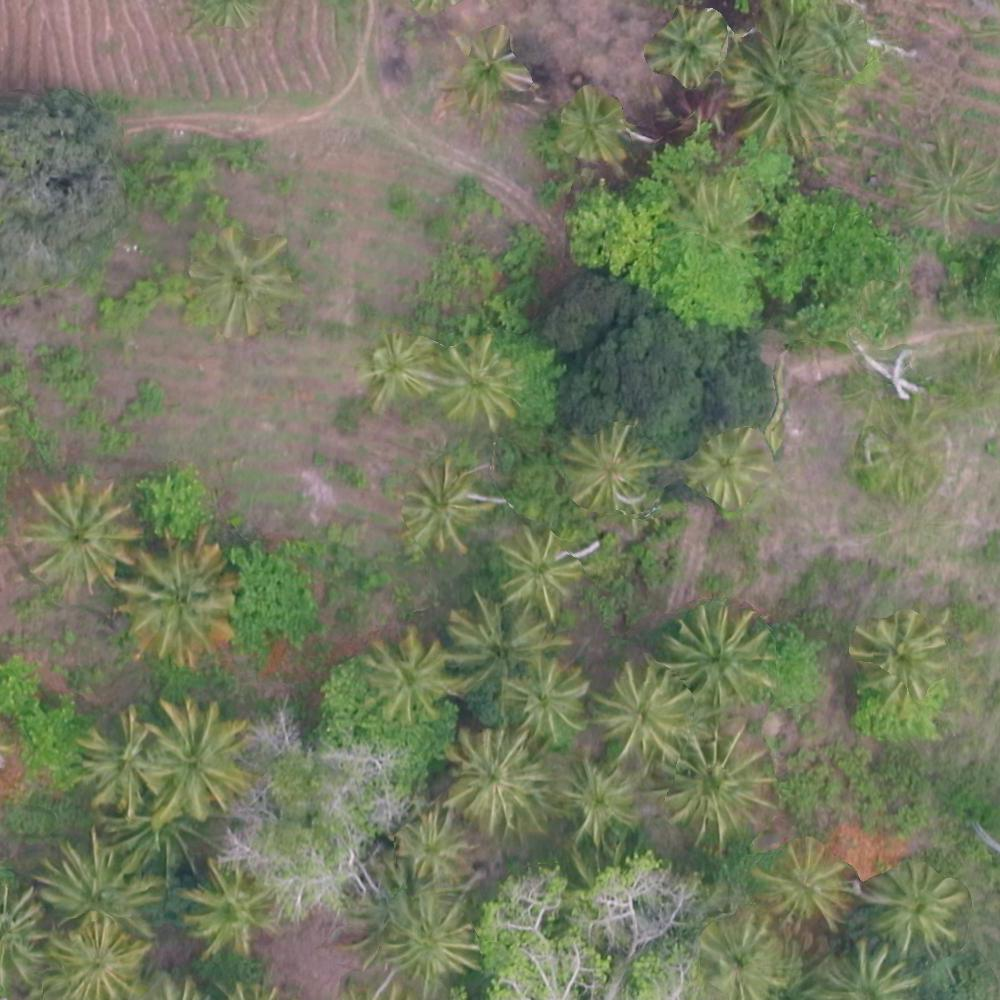Palm: (661, 731, 770, 842), (126, 549, 234, 655), (40, 838, 151, 939), (448, 596, 557, 697), (730, 39, 832, 143), (147, 705, 248, 808), (443, 724, 540, 829), (667, 607, 769, 705), (594, 663, 695, 758), (26, 481, 122, 580), (188, 235, 285, 332), (377, 895, 479, 982), (181, 863, 274, 956), (358, 632, 457, 718), (755, 834, 846, 927), (398, 462, 491, 550), (868, 865, 962, 948), (52, 915, 147, 997), (848, 616, 941, 699), (503, 661, 592, 747), (560, 432, 652, 515), (435, 338, 521, 424), (502, 529, 585, 618), (79, 716, 159, 807), (550, 757, 635, 840), (698, 915, 781, 996), (357, 330, 438, 405), (554, 88, 629, 159), (690, 429, 761, 501), (648, 11, 722, 80), (393, 814, 471, 876)
